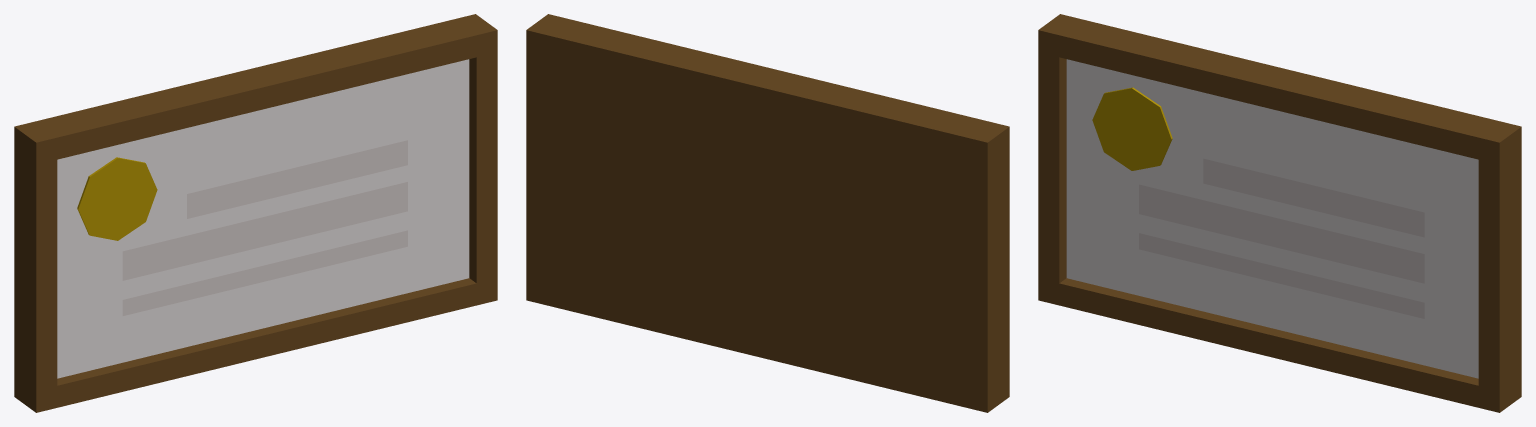
Rendered from WallAwardsV3.fbx.
3 renders of one model, left to right at view 1: azimuth 30°, elevation 25°; view 2: azimuth 150°, elevation 25°; view 3: azimuth 330°, elevation 25°, orthographic.
Visible parts, largest first — view 1: WallAwardsV3; view 2: WallAwardsV3; view 3: WallAwardsV3.
Boxes of the visible parts, bbox=[...] form: WallAwardsV3: bbox=[14, 14, 497, 412]; WallAwardsV3: bbox=[526, 14, 1009, 412]; WallAwardsV3: bbox=[1038, 14, 1521, 412].
Size of the model in its own units: 32.81 by 18.36 by 2.71.
